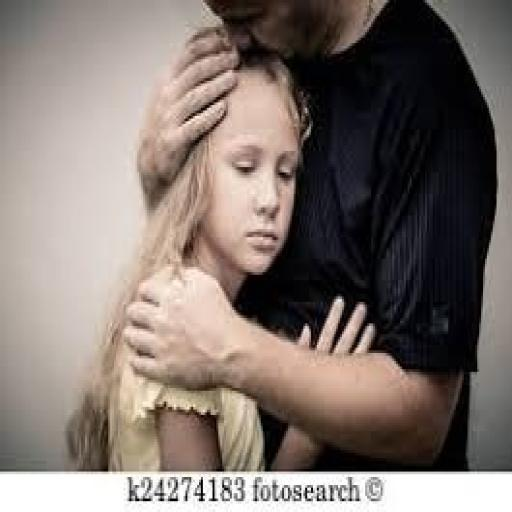hugging: (124, 0, 500, 472)
